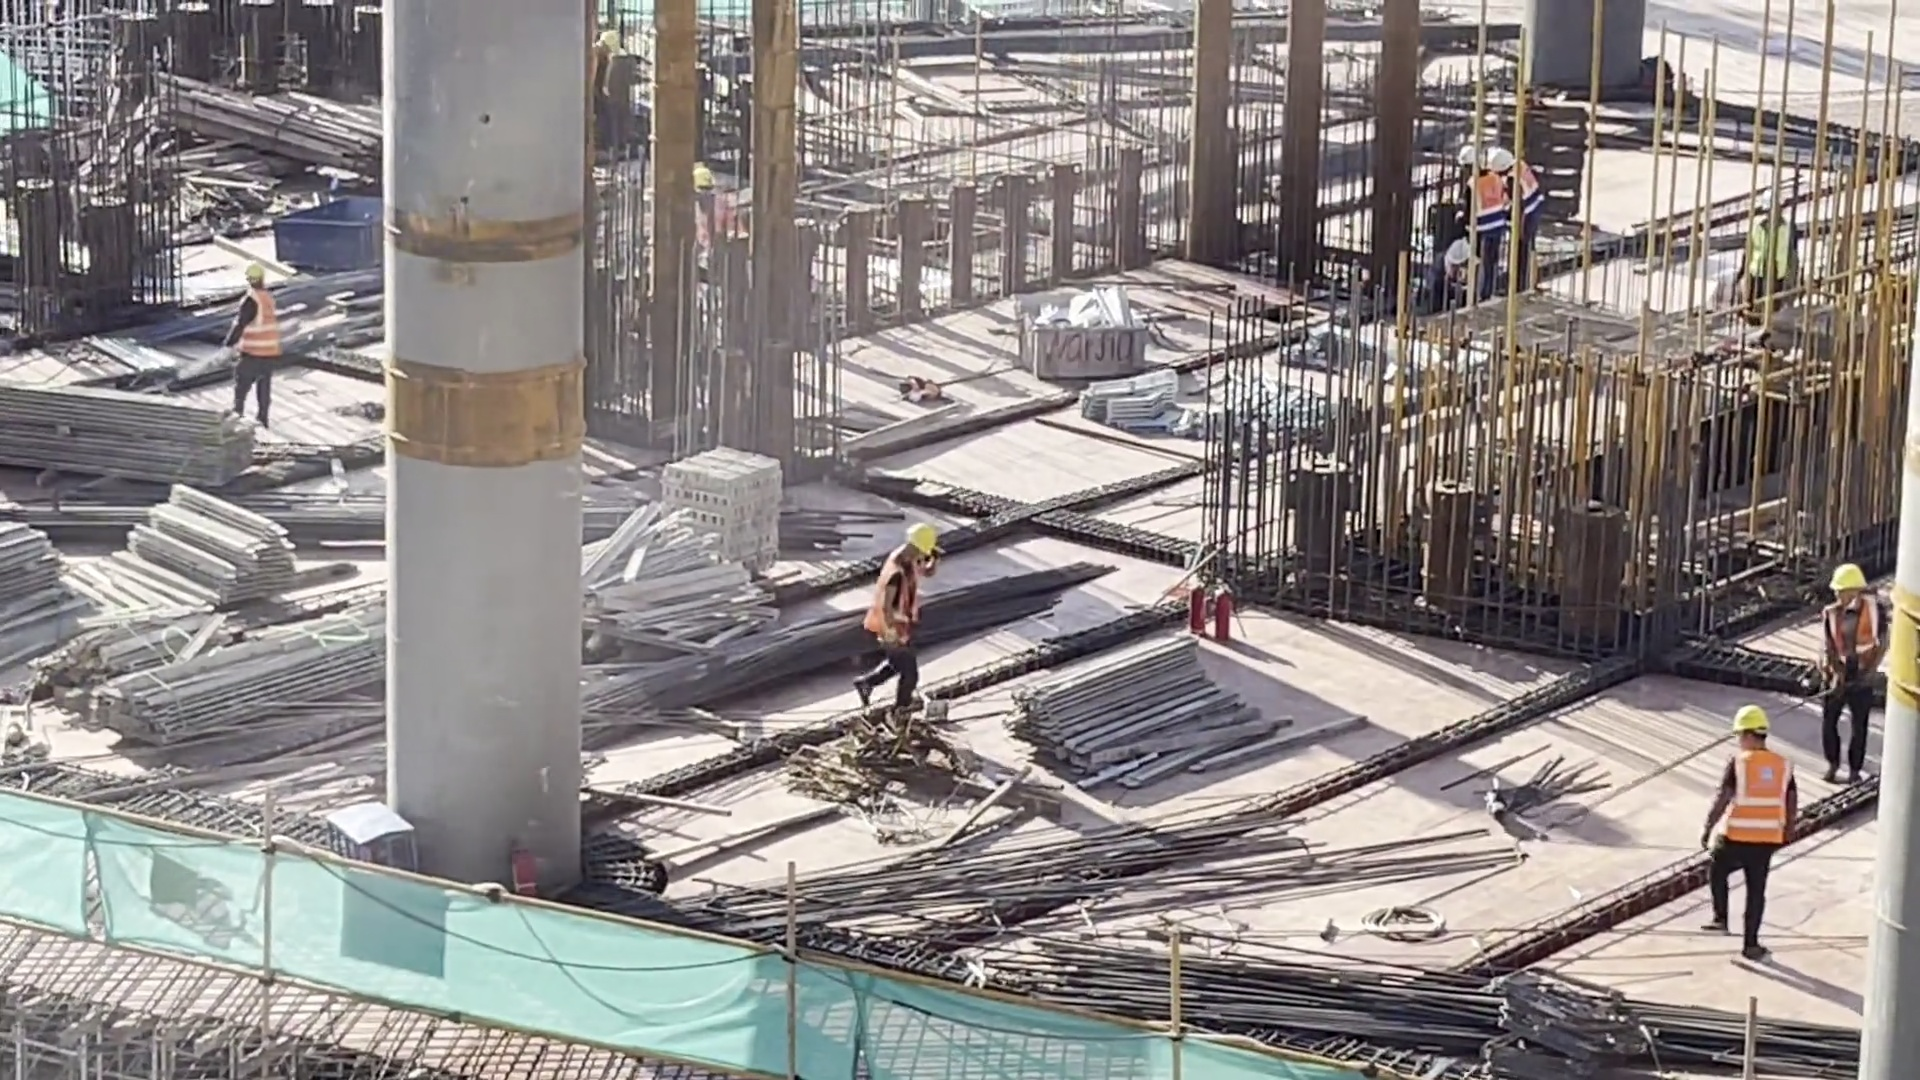helmet: (1727, 702, 1770, 729), (902, 520, 933, 552), (1826, 568, 1867, 594), (244, 264, 267, 290)
hopper: (1022, 267, 1158, 387), (274, 185, 382, 272)
person: (1806, 560, 1891, 815), (1710, 693, 1789, 956), (856, 506, 933, 718), (222, 250, 295, 422), (1448, 141, 1514, 295), (1729, 191, 1801, 324), (680, 161, 754, 274), (1486, 132, 1540, 278)
vest: (1722, 739, 1790, 864), (856, 555, 919, 642), (1826, 605, 1887, 689), (226, 290, 290, 357), (1463, 176, 1534, 224)
wood: (111, 608, 406, 745), (1037, 627, 1251, 797), (7, 367, 254, 500), (107, 479, 306, 612)
